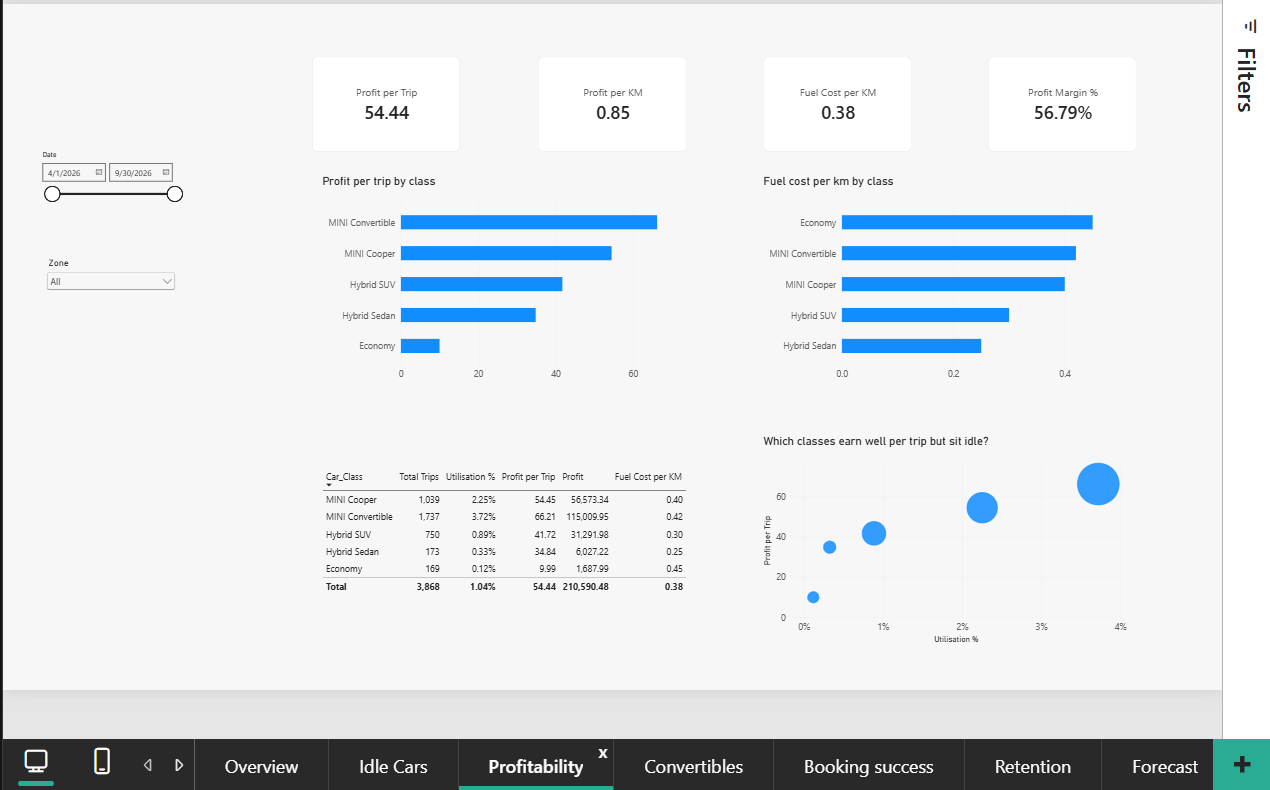

Layout of this report page (visuals, bound fields, positions):
{"tool":"powerbi","page":{"name":"Profitability","canvas":[1920,1080],"ordinal":2},"visuals":[{"type":"slicer","fields":{"Values":["Date.Date"]},"box":[54.3,231.5,232.5,90],"z":0},{"type":"slicer","fields":{"Values":["Cars.Zone"]},"box":[63.8,399.3,212.5,67.5],"z":1000},{"type":"cardVisual","fields":{"Data":["Low Use Threshold.Profit per Trip"]},"box":[487.5,82.5,233,150],"z":2000},{"type":"cardVisual","fields":{"Data":["Low Use Threshold.Profit per KM"]},"box":[842.5,82.5,233,150],"z":3000},{"type":"cardVisual","fields":{"Data":["Low Use Threshold.Fuel Cost per KM"]},"box":[1197.5,82.5,233,150],"z":4000},{"type":"cardVisual","fields":{"Data":["Low Use Threshold.Profit Margin %"]},"box":[1552.5,82.5,233,150],"z":5000},{"type":"clusteredBarChart","title":"Profit per trip by class","fields":{"Category":["Cars.Car_Class"],"Y":["Low Use Threshold.Profit per Trip"]},"box":[486.7,255.2,590.7,359.1],"z":6000},{"type":"clusteredBarChart","title":"Fuel cost per km by class","fields":{"Category":["Cars.Car_Class"],"Y":["Low Use Threshold.Fuel Cost per KM"]},"box":[1181.3,255.2,604.8,359.1],"z":7000},{"type":"scatterChart","title":"Which classes earn well per trip but sit idle?","fields":{"Category":["Cars.Car_Class"],"Size":["_Measures.Total Revenue"],"X":["_Measures.Utilisation %"],"Y":["Low Use Threshold.Profit per Trip"]},"box":[1181.3,663.9,604.8,359.1],"z":8000},{"type":"tableEx","fields":{"Values":["Cars.Car_Class","_Measures.Total Trips","_Measures.Utilisation %","Low Use Threshold.Profit per Trip","Low Use Threshold.Profit","Low Use Threshold.Fuel Cost per KM"]},"box":[486.7,715.9,614.3,255.2],"z":9000}]}

Visuals, with their boxes on the page's 1920x1080 design canvas (x1, y1, x2, y2). These are canvas units, not pixel positions in the 1270x790 screenshot, which may show the page scaled, cropped or inside an application window:
slicer - Date.Date: {"x1": 54, "y1": 232, "x2": 287, "y2": 322}
slicer - Cars.Zone: {"x1": 64, "y1": 399, "x2": 276, "y2": 467}
cardVisual - Low Use Threshold.Profit per Trip: {"x1": 488, "y1": 82, "x2": 720, "y2": 232}
cardVisual - Low Use Threshold.Profit per KM: {"x1": 842, "y1": 82, "x2": 1076, "y2": 232}
cardVisual - Low Use Threshold.Fuel Cost per KM: {"x1": 1198, "y1": 82, "x2": 1430, "y2": 232}
cardVisual - Low Use Threshold.Profit Margin %: {"x1": 1552, "y1": 82, "x2": 1786, "y2": 232}
"Profit per trip by class" clusteredBarChart: {"x1": 487, "y1": 255, "x2": 1077, "y2": 614}
"Fuel cost per km by class" clusteredBarChart: {"x1": 1181, "y1": 255, "x2": 1786, "y2": 614}
"Which classes earn well per trip but sit idle?" scatterChart: {"x1": 1181, "y1": 664, "x2": 1786, "y2": 1023}
tableEx - Cars.Car_Class x _Measures.Total Trips: {"x1": 487, "y1": 716, "x2": 1101, "y2": 971}
